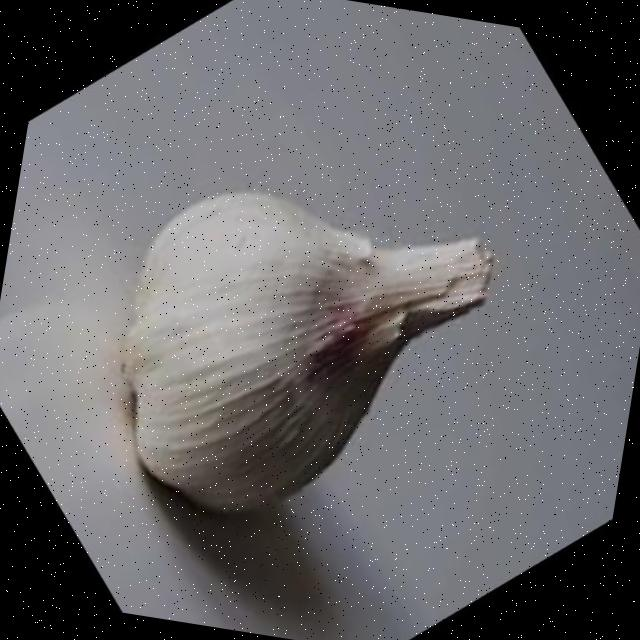garlic: (123, 192, 493, 512)
